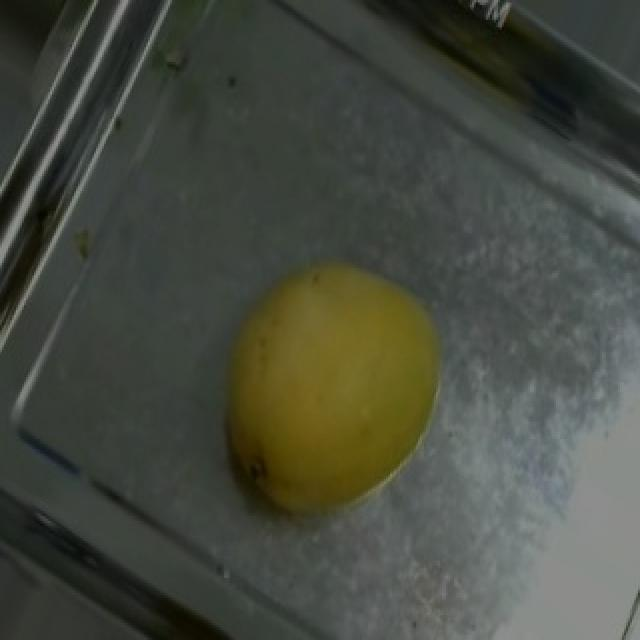fruit: (164, 201, 502, 556)
